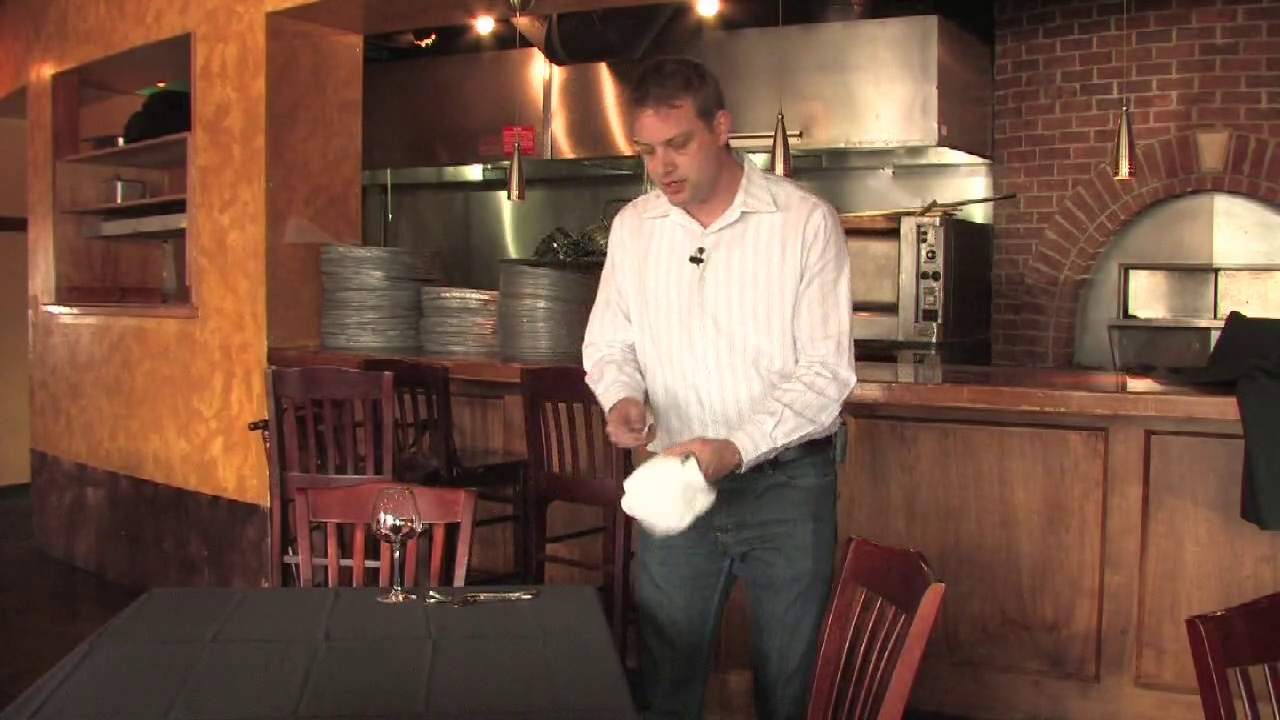person: (581, 57, 858, 720)
